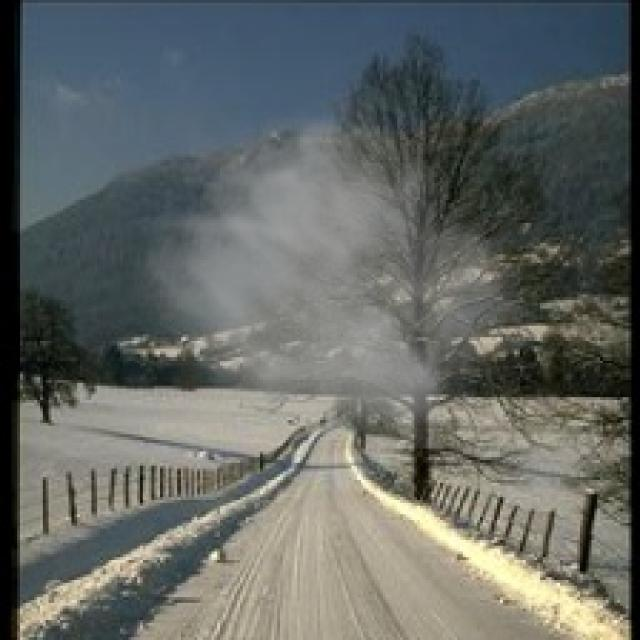smoke: (123, 77, 543, 449)
